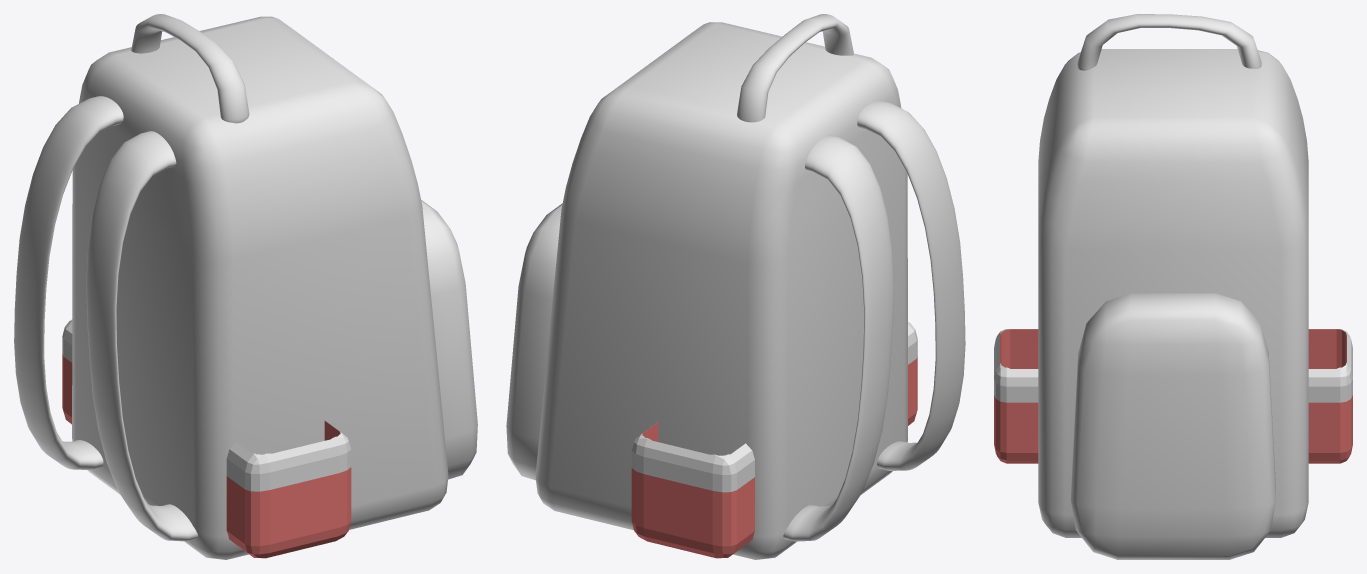
Rendered from backpack_2.fbx.
The picture shows the model from 3 angles, left to right: view 1: azimuth 30°, elevation 25°; view 2: azimuth 150°, elevation 25°; view 3: azimuth 270°, elevation 25°; orthographic projection. The views are drawn at different scales.
Parts seen in each view (by area): view 1: Cube.012, Cylinder.007, Cylinder, Cube.004, Cube.013, Cylinder.006, Cube.005; view 2: Cube.012, Cylinder, Cylinder.007, Cube.005, Cube.013, Cylinder.006, Cube.004; view 3: Cube.012, Cube.013, Cube.004, Cube.005, Cylinder.006.
Boxes of the visible parts, <box> form: Cube.012: <box>72,16,448,559</box>; Cylinder.007: <box>86,131,197,541</box>; Cylinder: <box>14,96,123,469</box>; Cube.004: <box>226,421,351,558</box>; Cube.013: <box>421,199,477,479</box>; Cylinder.006: <box>131,14,249,123</box>; Cube.005: <box>62,319,72,424</box>; Cube.012: <box>535,22,907,559</box>; Cylinder: <box>783,135,893,541</box>; Cylinder.007: <box>857,101,965,470</box>; Cube.005: <box>631,422,754,558</box>; Cube.013: <box>506,203,562,480</box>; Cylinder.006: <box>737,14,853,122</box>; Cube.004: <box>908,322,917,425</box>; Cube.012: <box>1038,49,1308,537</box>; Cube.013: <box>1071,293,1275,559</box>; Cube.004: <box>994,329,1038,463</box>; Cube.005: <box>1308,329,1352,463</box>; Cylinder.006: <box>1077,14,1261,70</box>.
Bounding box in the file's own units: 293 × 362 × 266.
